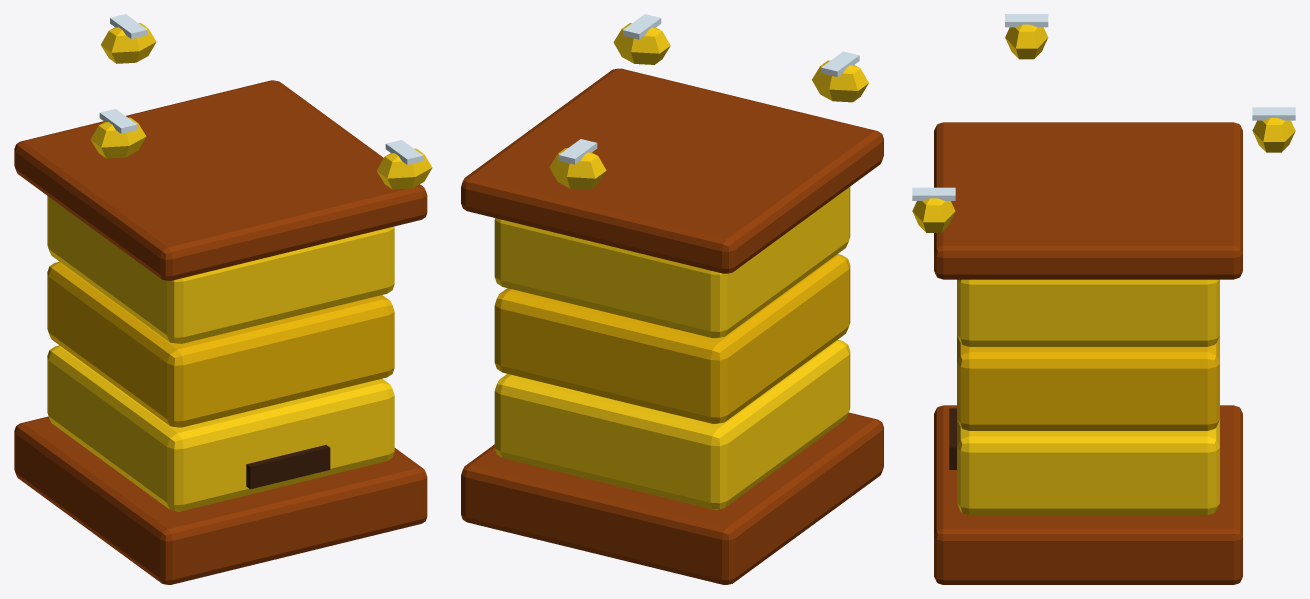
File: an-bees-C9Q37D7D.glb
3 views of the same model, side by side, from view 1: azimuth 30°, elevation 25°; view 2: azimuth 150°, elevation 25°; view 3: azimuth 270°, elevation 25° (orthographic). The views are drawn at different scales.
Parts seen in each view (by area): view 1: an-bees; view 2: an-bees; view 3: an-bees.
Boxes of the visible parts, <box> form: an-bees: <box>14,14,432,584</box>; an-bees: <box>461,14,883,584</box>; an-bees: <box>912,14,1295,584</box>.
Bounding box in the file's own units: 0.1085 × 0.157 × 0.124.
